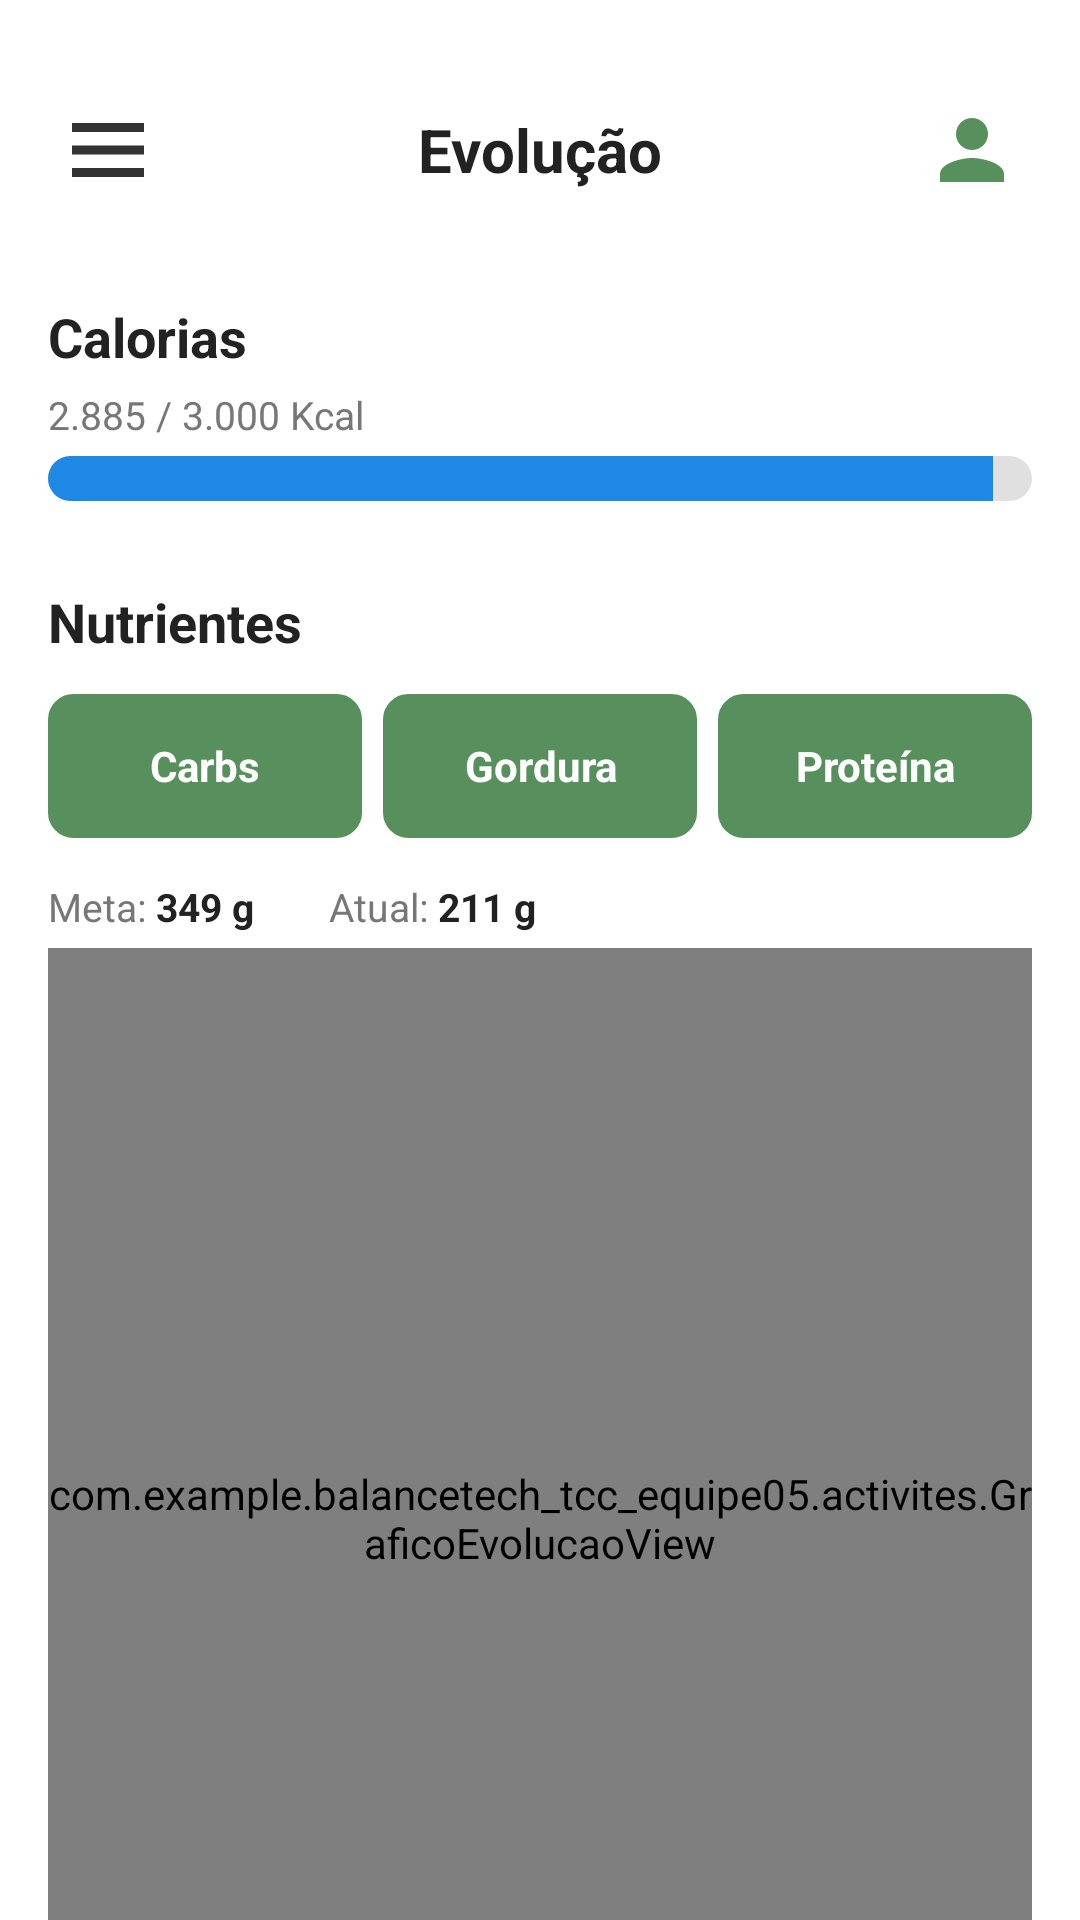

Where icons sit on this 1080w x 1920h app screen, as (x1, y1, x2, y2):
Menu: (72, 123, 144, 177)
Perfil: (940, 118, 1004, 182)
